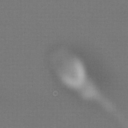abnormal: (81, 80, 128, 128)
